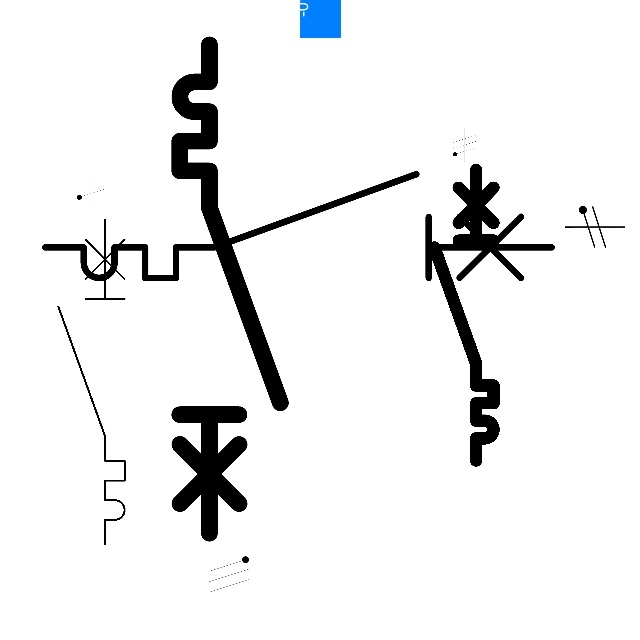interruptor_termomagnetico: (32, 161, 565, 291), (167, 32, 292, 545), (50, 211, 133, 552), (427, 162, 501, 467)
